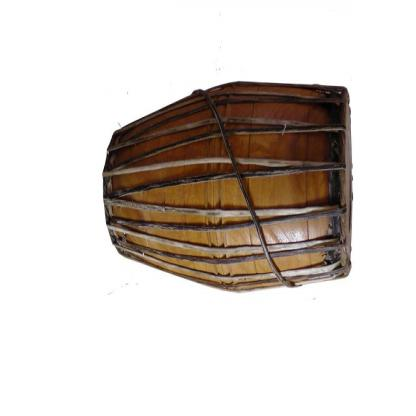Mridangam: (97, 72, 368, 298)
